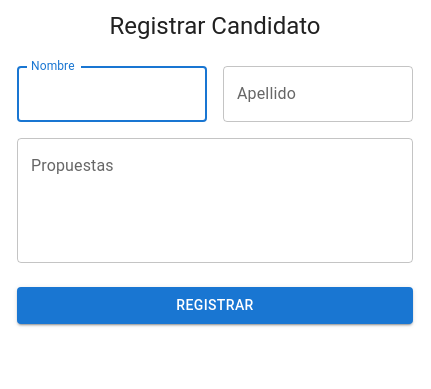
RegistrarCandidato › should return an error if fields are empty
Click the button "Registrar". click: [215, 305]
box: x1=17 y1=287 x2=413 y2=324
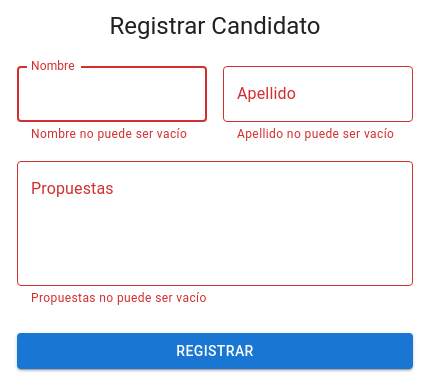
Check: the text "Propuestas no puede ser vacío" is shown, box x1=31 y1=291 x2=207 y2=305
Check: the text "Nombre no puede ser vacío" is shown, box x1=31 y1=125 x2=193 y2=145
Check: the text "Apellido no puede ser vacío" is shown, box x1=237 y1=125 x2=399 y2=145
